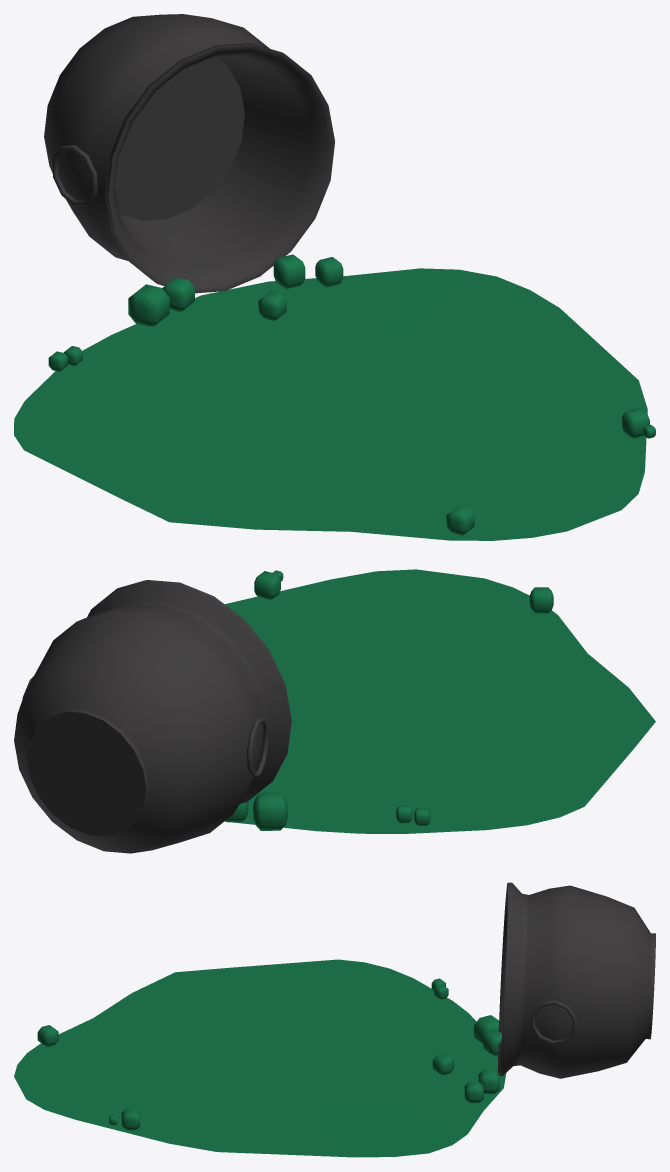
Rendered from WitchesBrew.fbx.
The picture shows the model from 3 angles, top to bottom: view 1: azimuth 30°, elevation 25°; view 2: azimuth 150°, elevation 25°; view 3: azimuth 270°, elevation 25°; orthographic projection. The views are drawn at different scales.
Parts seen in each view (by area): view 1: Brew, Cauldron; view 2: Brew, Cauldron; view 3: Brew, Cauldron.
Part boxes in pixels (box(x1,y1,x2,y2)): Brew: box(14, 254, 655, 540); Cauldron: box(44, 14, 334, 293); Brew: box(224, 569, 655, 833); Cauldron: box(14, 580, 291, 853); Brew: box(14, 959, 506, 1157); Cauldron: box(498, 882, 655, 1078).
Bounding box in the file's own units: 4.44 × 1.9 × 6.08.
